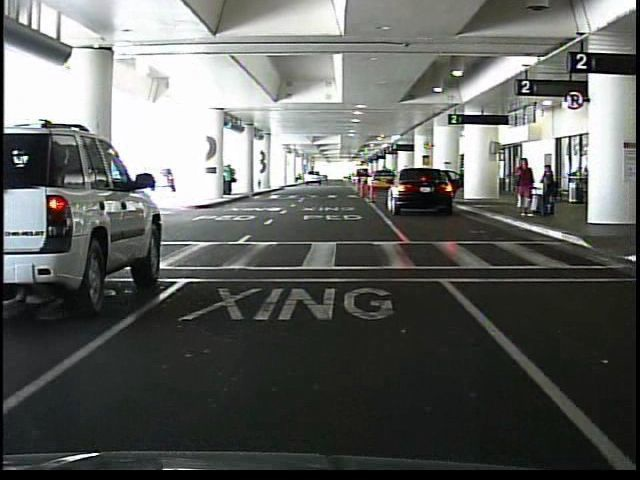person: (509, 156, 532, 214), (536, 164, 558, 217), (223, 163, 236, 197), (544, 165, 554, 200)
